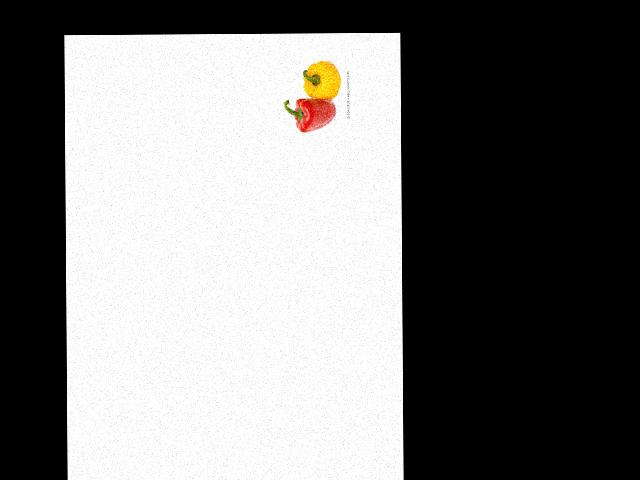bell_pepper: (299, 59, 344, 101)
